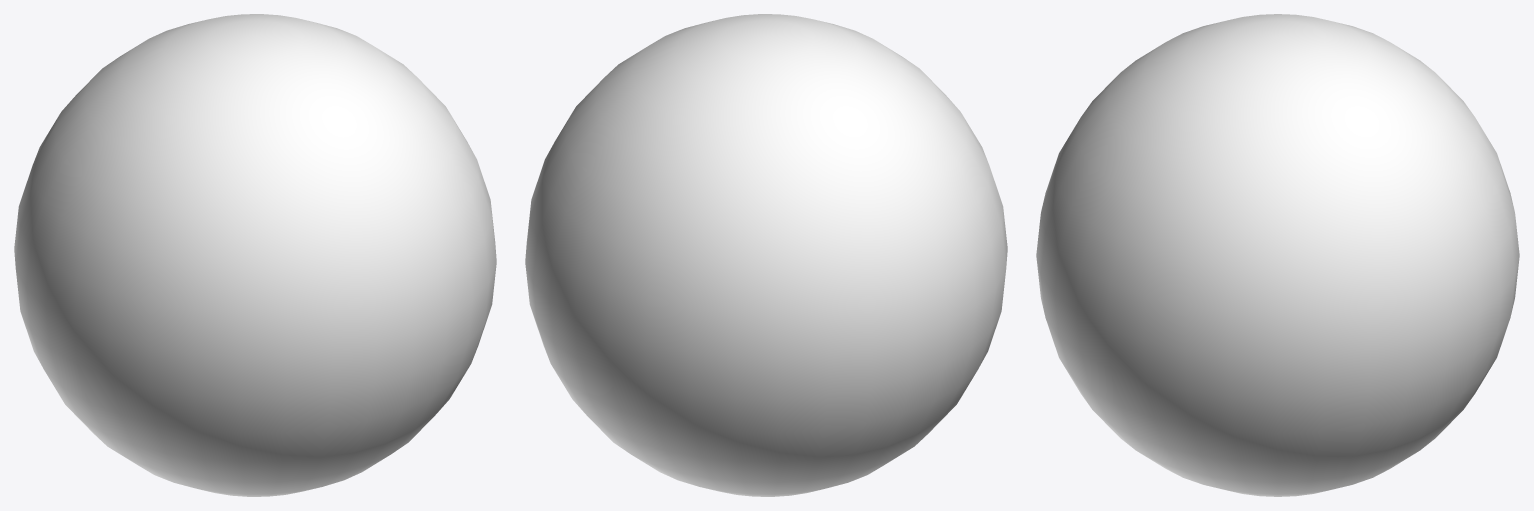
File: stage_1_firehahelmet.fbx
3 views of the same model, side by side, from view 1: azimuth 30°, elevation 25°; view 2: azimuth 150°, elevation 25°; view 3: azimuth 270°, elevation 25° (orthographic).
Parts seen in each view (by area): view 1: bubble; view 2: bubble; view 3: bubble.
Boxes of the visible parts, x1,y1,x2,y2 form: bubble: (14,14,496,496); bubble: (525,14,1007,496); bubble: (1036,14,1519,496).
Size of the model in its own units: 238 by 238 by 238.
2 materials, 2 textured.
